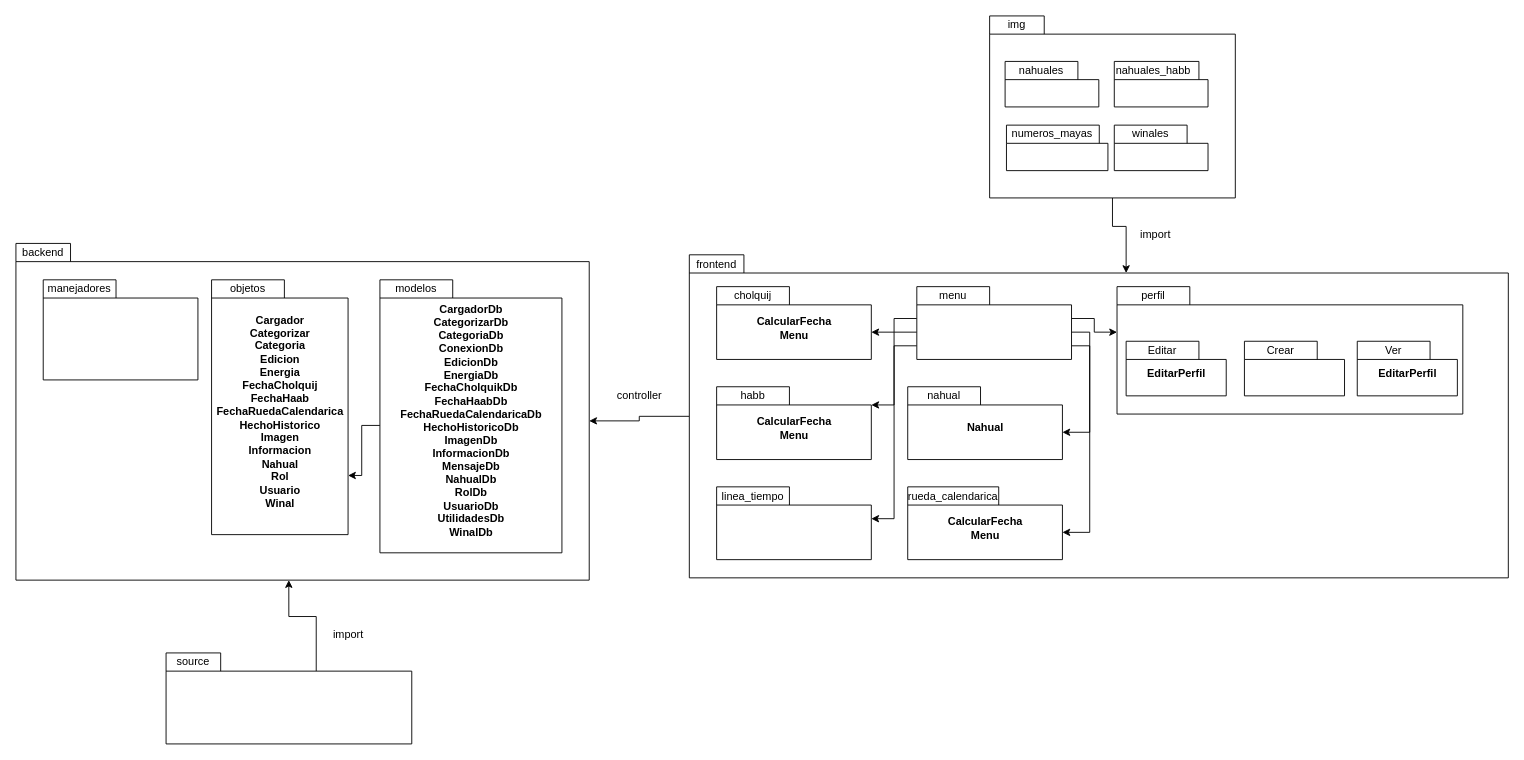
The diagram is 1524 pixels wide and 760 high, and some of its shapes have lost their labels. Here are the shapes that lost their labels. From the top down, the box of each, then its label:
(42, 279, 198, 380): CalcularFechaCholquij CalcularFechaHabb CalcularFechaNahual InformacionModal
(916, 286, 1072, 359): Inicio Menu
(1116, 286, 1463, 414): PerfilActual
(1244, 340, 1345, 396): CrearPerfil
(716, 486, 871, 560): AgregarEvento LineaTIempo
(165, 652, 412, 744): ApiOptionPane TextPrompt
